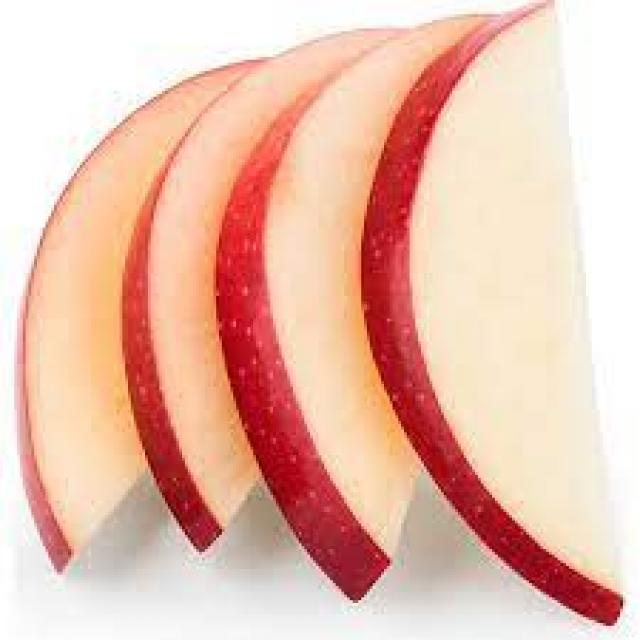Apple: (361, 3, 629, 624), (217, 11, 428, 606), (12, 74, 210, 581), (124, 38, 275, 553)
